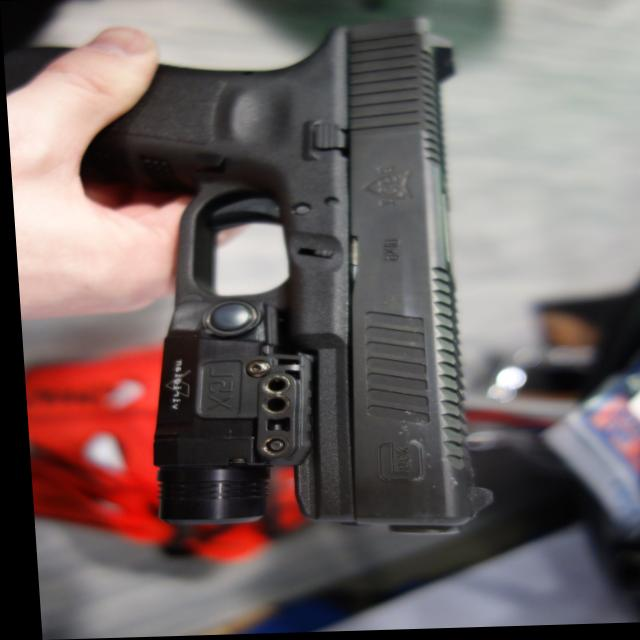handgun: (2, 13, 489, 547)
